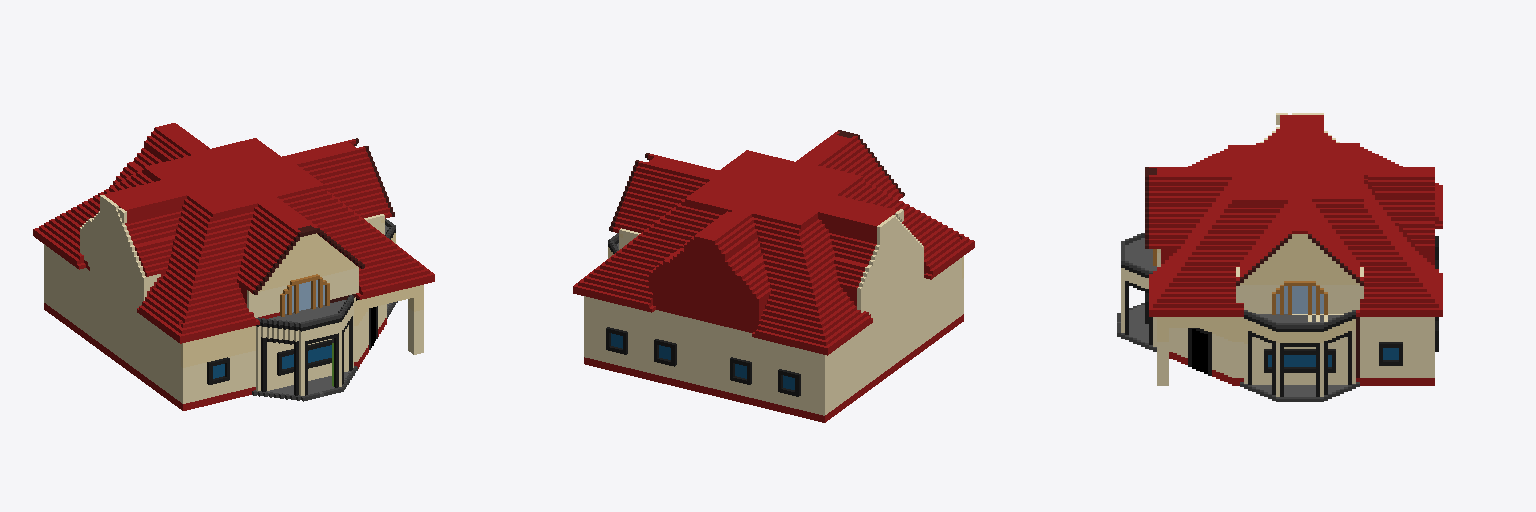
3 views of the same model, side by side, from view 1: azimuth 30°, elevation 25°; view 2: azimuth 150°, elevation 25°; view 3: azimuth 270°, elevation 25° (orthographic).
Visible parts, largest first — view 1: object 1; view 2: object 1; view 3: object 1.
Part boxes in pixels (bbox=[...]): object 1: bbox=[33, 123, 434, 410]; object 1: bbox=[573, 130, 974, 422]; object 1: bbox=[1117, 113, 1442, 401].
Bounding box in the file's own units: 8.2 × 4.3 × 8.2.
1 materials, 1 textured.